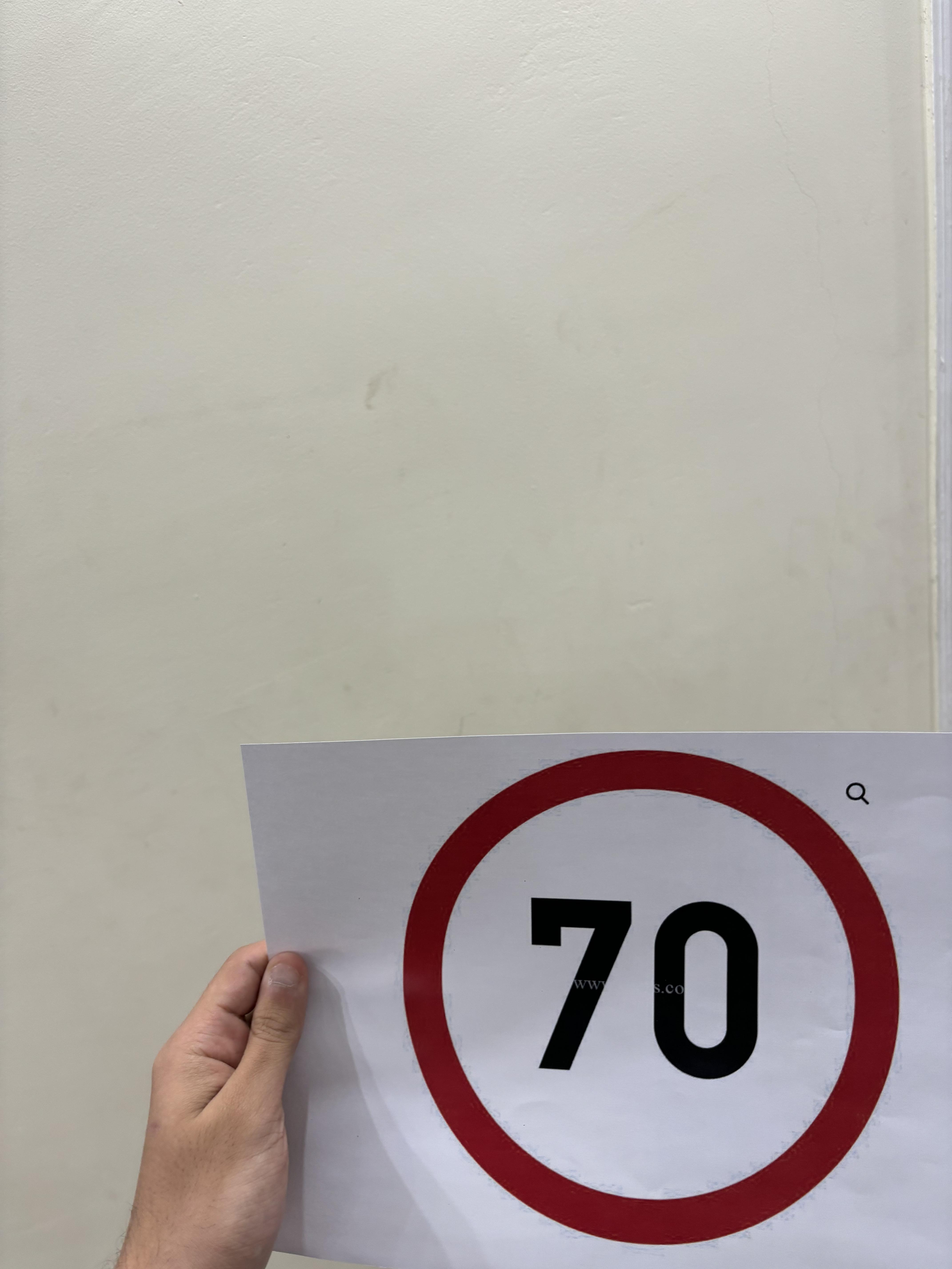70-Speed: (385, 731, 916, 1245)
